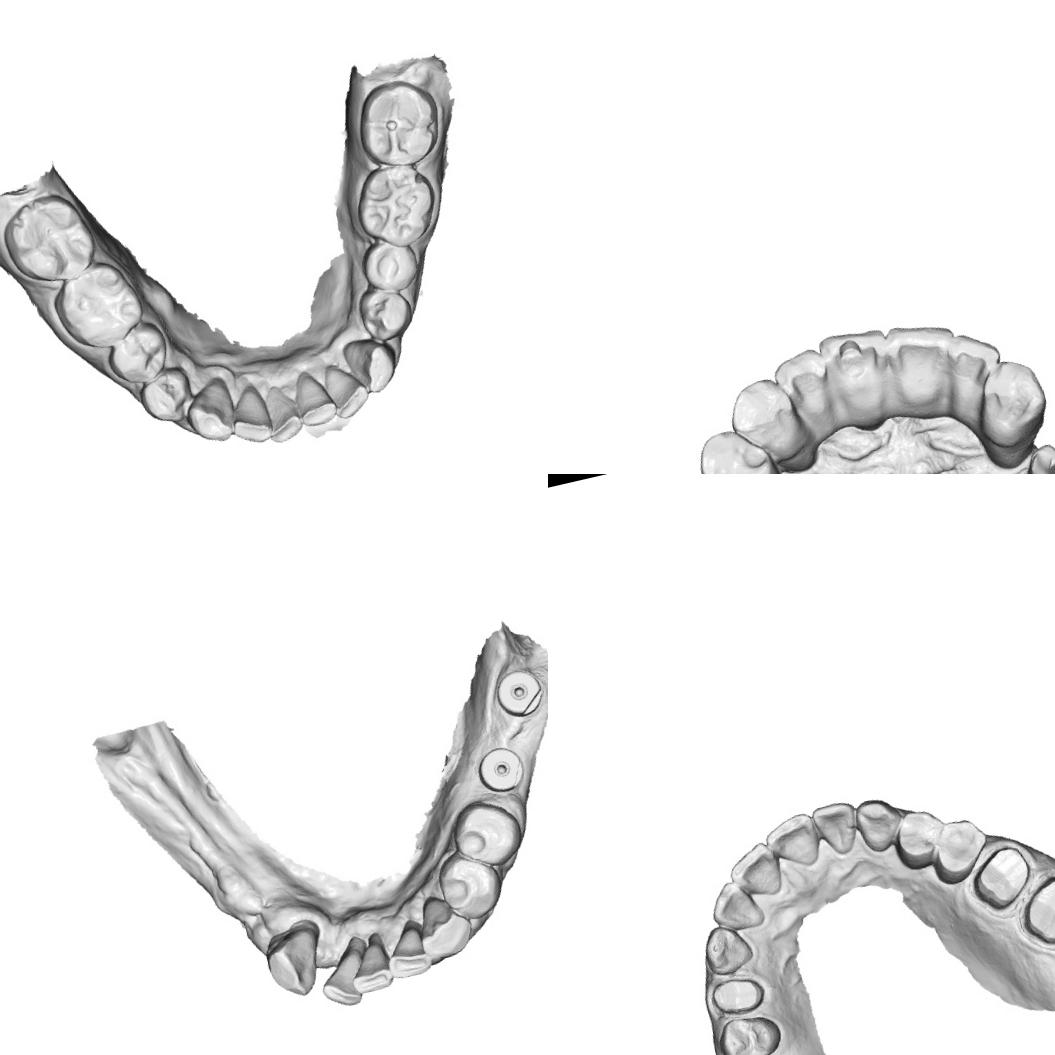abutment: (1012, 441, 1055, 474)
canine: (721, 370, 811, 468), (968, 350, 1054, 452), (258, 919, 330, 1004), (410, 886, 477, 965), (338, 331, 403, 400), (181, 373, 240, 448), (698, 918, 758, 980), (852, 792, 908, 856)
crown: (963, 841, 1038, 917), (1013, 868, 1055, 950), (707, 971, 770, 1019)
implant: (472, 740, 530, 796), (492, 666, 547, 720)
incisor: (880, 314, 970, 413), (814, 320, 900, 416), (935, 324, 1016, 420), (768, 344, 841, 434), (759, 809, 824, 875), (723, 838, 787, 904), (703, 873, 768, 937), (222, 382, 276, 451), (257, 377, 308, 449), (320, 356, 374, 424), (342, 934, 398, 998), (810, 798, 866, 860), (288, 364, 339, 432), (381, 919, 436, 982), (314, 953, 370, 1014)
molar: (46, 254, 152, 358), (0, 186, 102, 292), (348, 70, 449, 175), (346, 156, 444, 256)
premolar: (446, 792, 530, 877), (430, 845, 507, 928), (924, 813, 996, 890), (102, 318, 174, 391), (690, 420, 780, 474), (887, 804, 952, 874), (136, 365, 198, 431), (352, 284, 416, 347), (357, 236, 423, 297), (713, 1007, 787, 1055)
